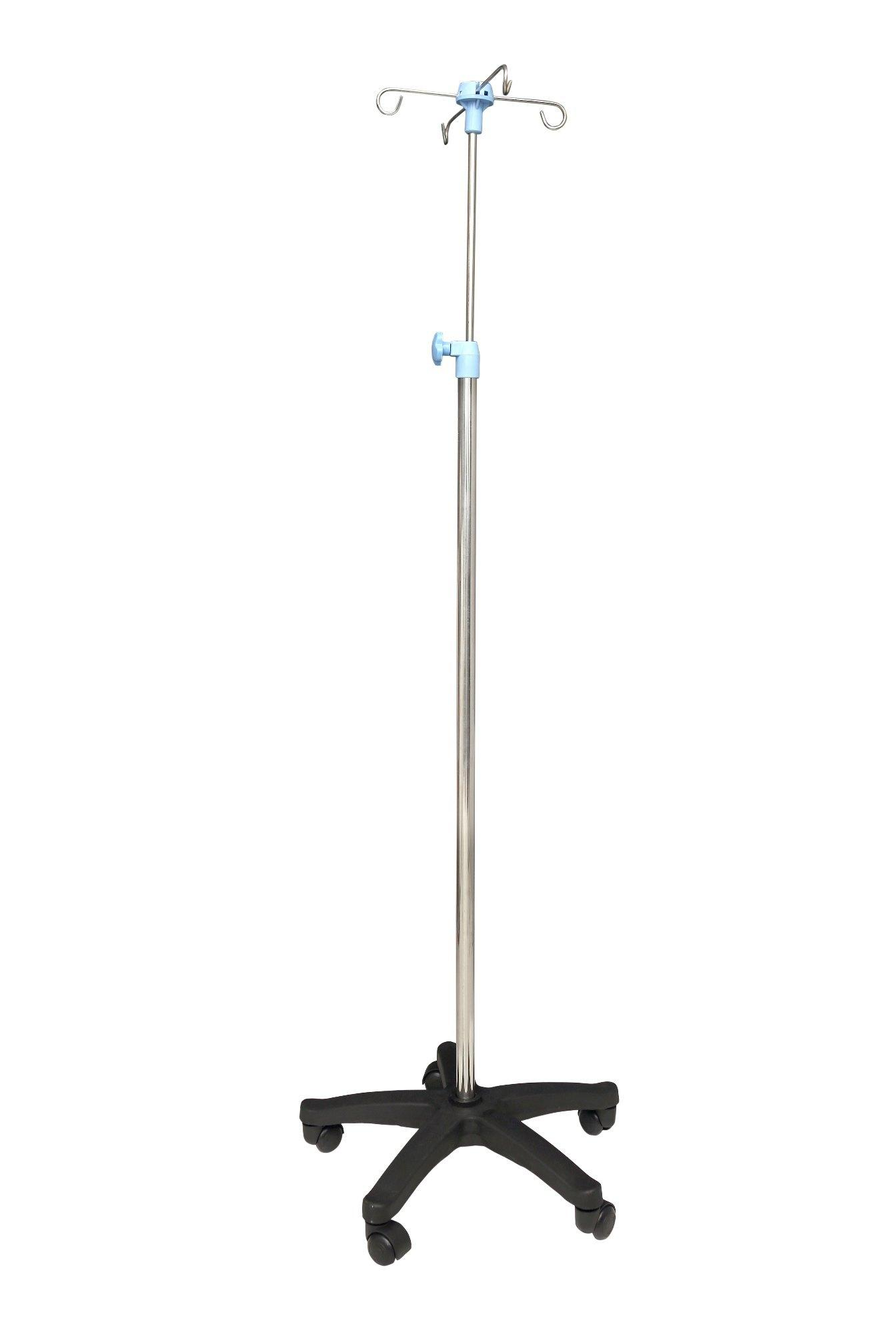Saline Stand: (297, 62, 621, 1265)
